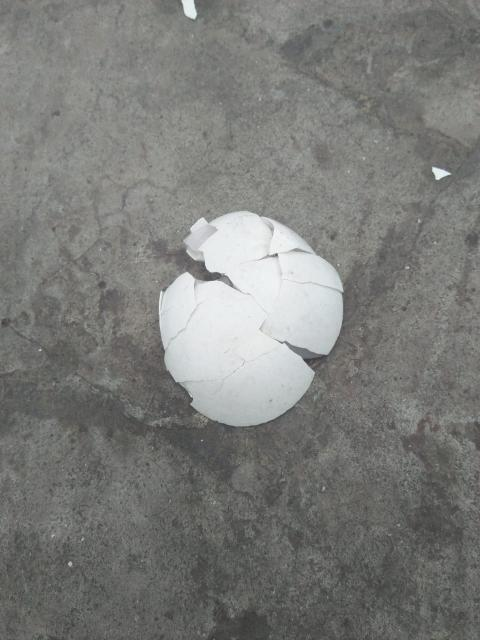Roto: (157, 210, 344, 427)
